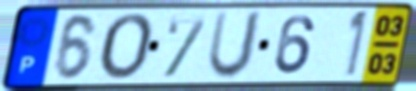1: (344, 8, 371, 81)
6: (50, 13, 102, 83), (274, 14, 316, 77)
7: (163, 13, 211, 80)
O: (97, 11, 158, 82)
U: (204, 9, 266, 83)
